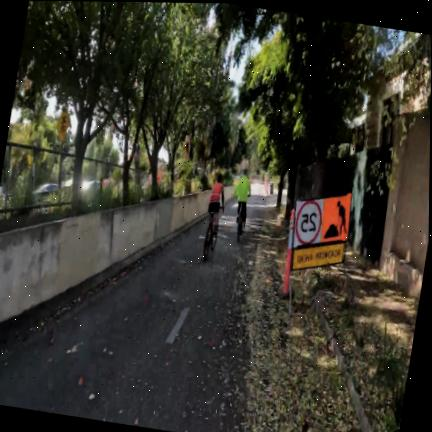Bike_Lane: (0, 192, 271, 432)
